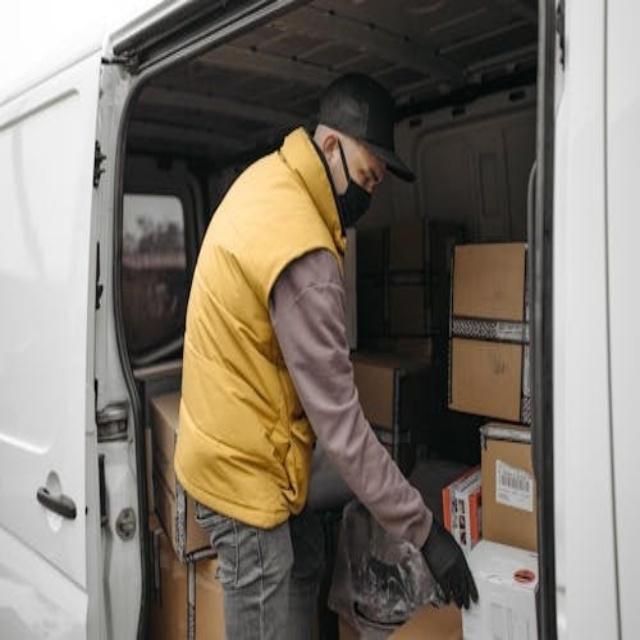Guantes: (420, 521, 480, 610)
Mascara: (336, 142, 374, 230)
Sin_gafas: (349, 142, 387, 190)
